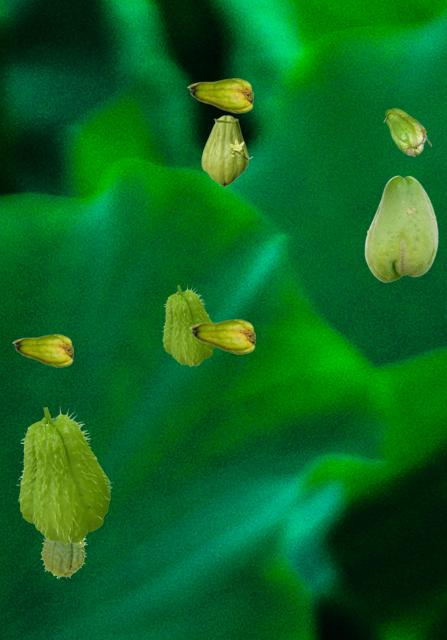sayote: (16, 405, 112, 543), (364, 175, 437, 281), (161, 284, 215, 365), (201, 115, 252, 186), (187, 78, 252, 112), (189, 319, 254, 353), (383, 108, 430, 155), (12, 334, 72, 366), (40, 538, 86, 578)
